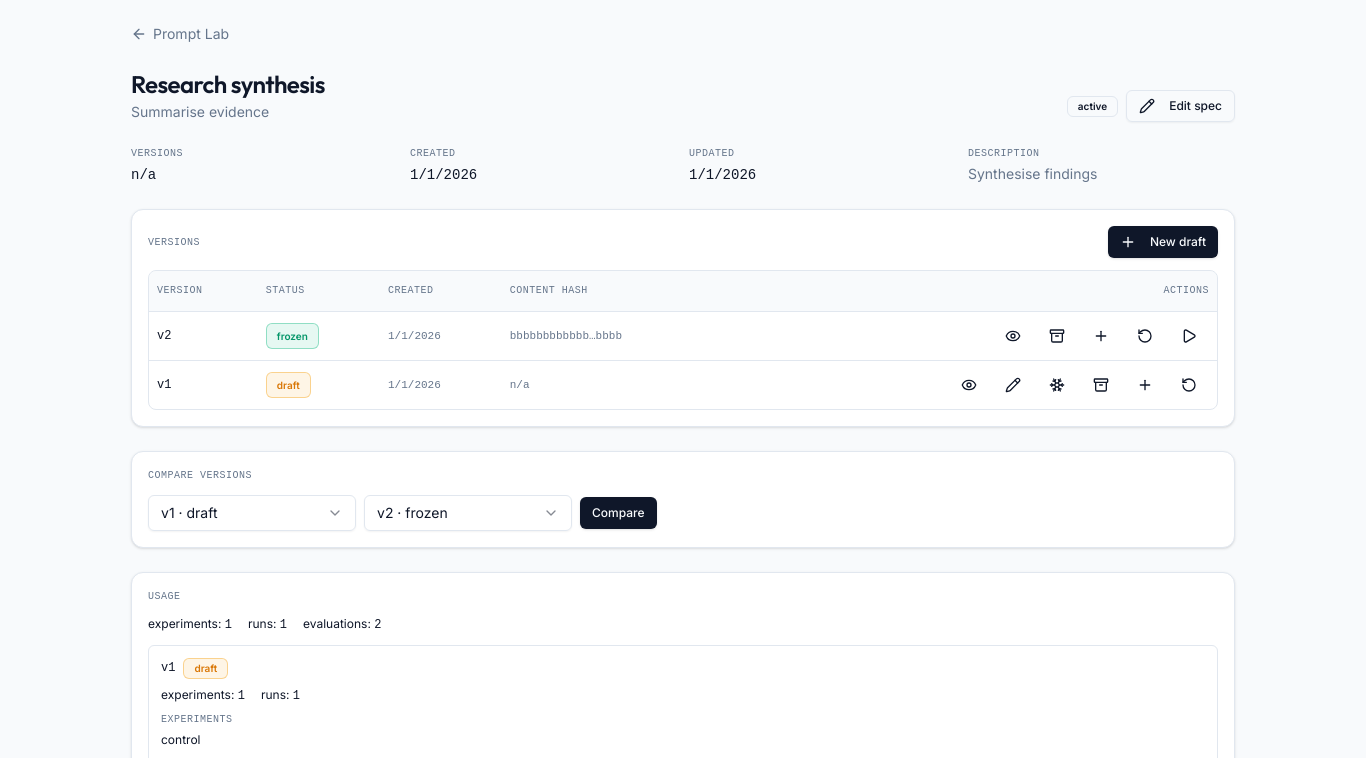
Scenario: compare shows an explicit no-differences state
Click the button with test id "prompt-compare" at point(618, 512), box [580,496,656,528]
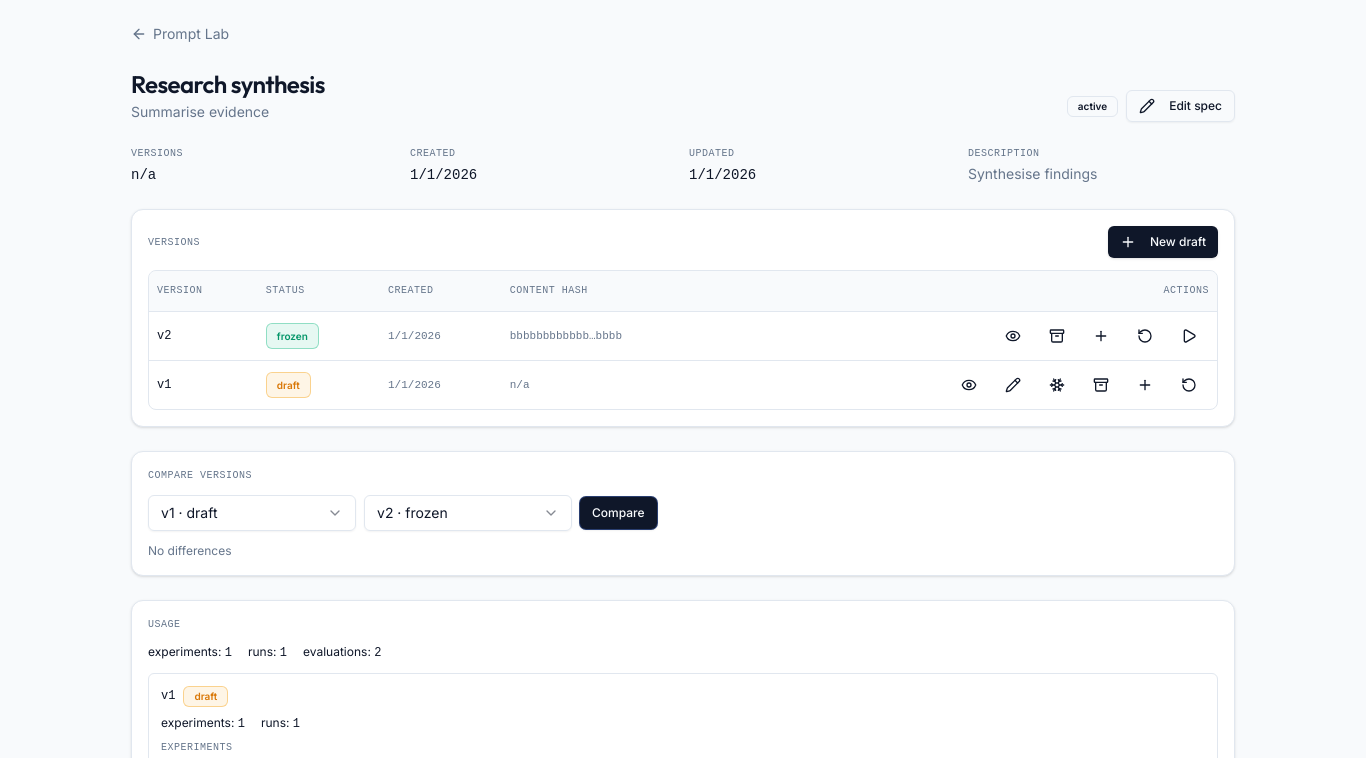
Now the text with test id "prompt-compare-no-diff" reads "No differences", box [148,542,232,558]
